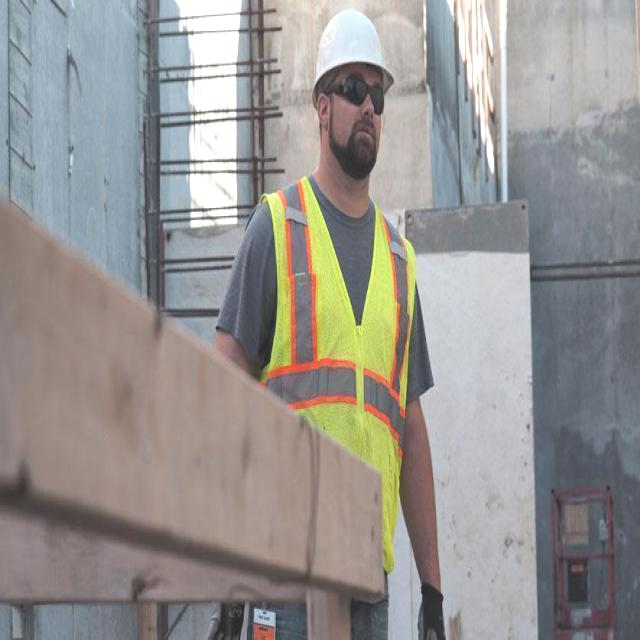face_nomask: (323, 76, 390, 196)
glasses: (340, 68, 386, 117)
hand_glove: (416, 586, 452, 640)
head_helmet: (300, 4, 400, 103)
person: (204, 0, 440, 626)
vest: (249, 174, 417, 594)
